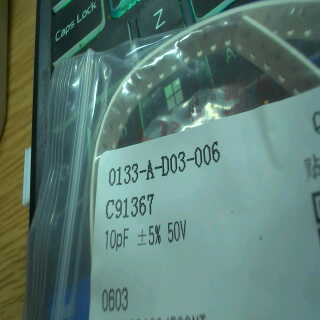10pF: (103, 222, 137, 256)
